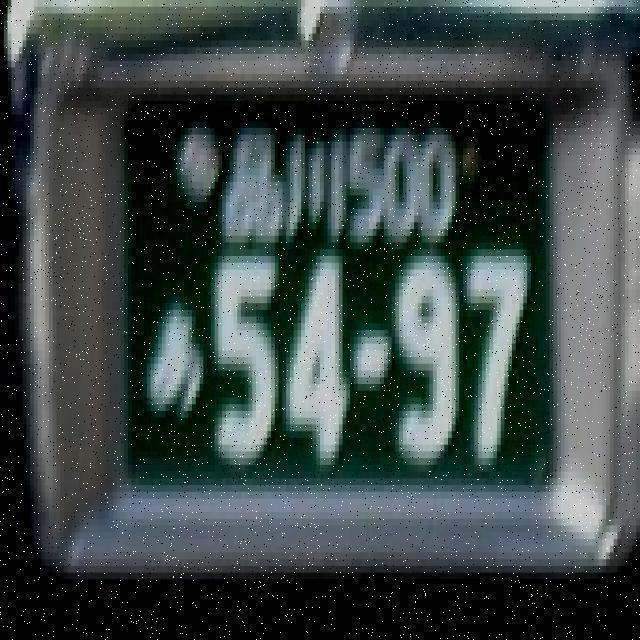license-plate: (145, 122, 578, 512)
